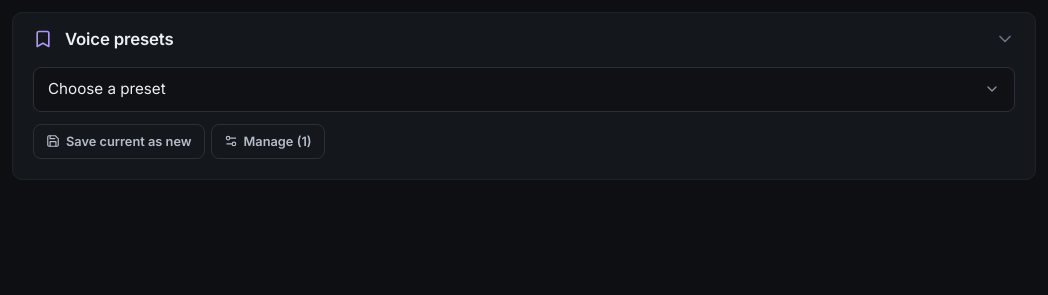
Test case: PresetsPanel › keeps the form open and shows the problem when the name is rejected
Click the button "Save current as new".
click(119, 141)  # box [33,124,204,159]
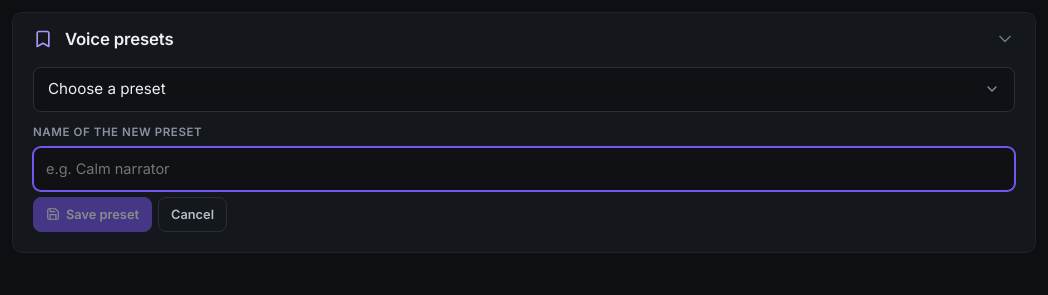
Type "Calm narrator" into the field labelled "Name of the new preset".
click(524, 169); type("Calm narrator")  # box [33,147,1015,191]
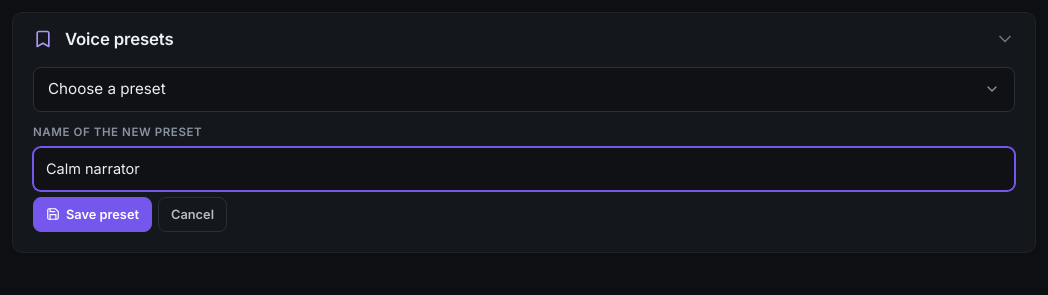
Click the button "Save preset".
click(92, 214)  # box [33,197,152,232]
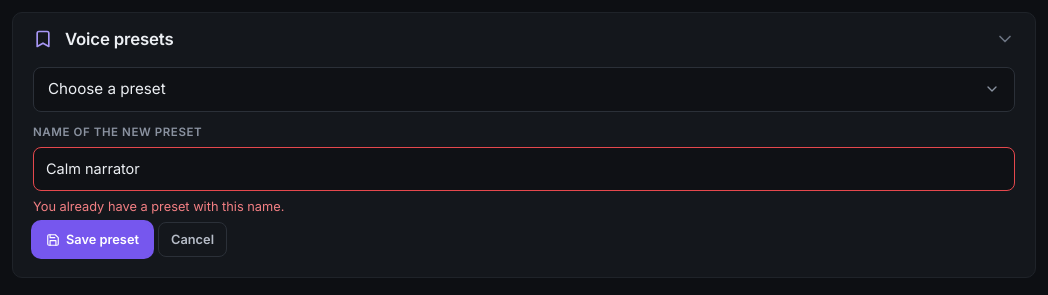
Check: the message shows "already have a preset", box [33,199,284,214]
